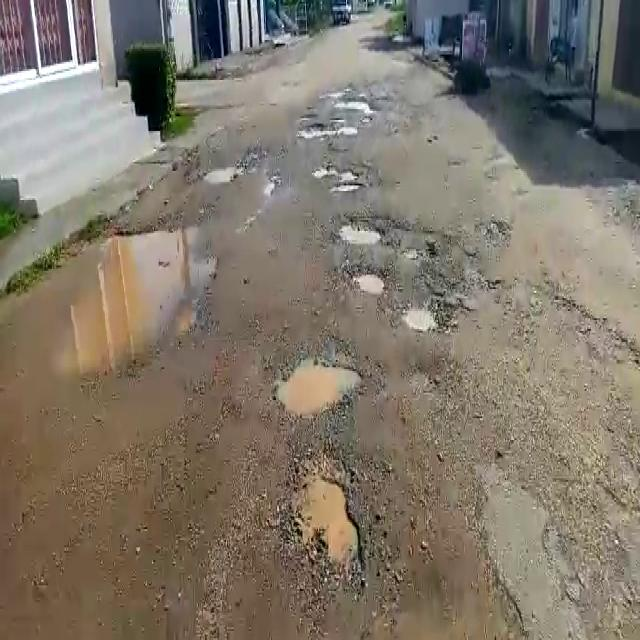Pothole: (0, 222, 218, 384), (278, 453, 371, 580), (276, 347, 362, 419), (337, 214, 385, 248), (314, 163, 364, 195), (343, 264, 390, 296), (400, 299, 438, 333), (297, 120, 353, 138)
